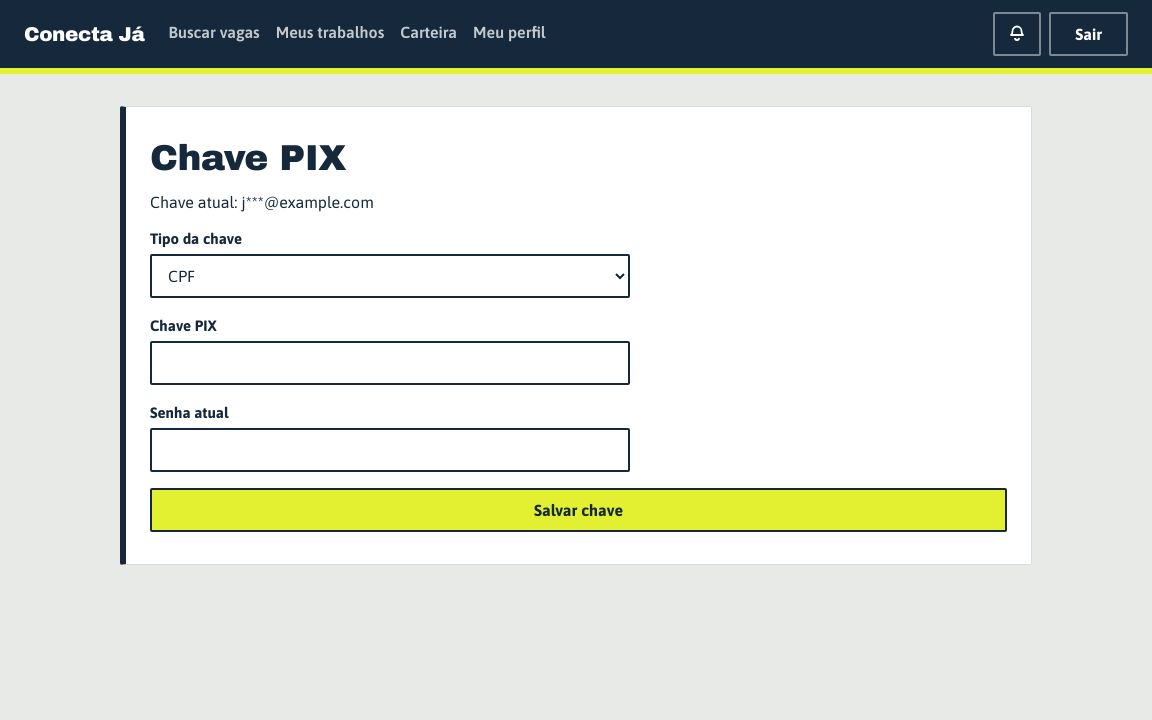
Test case: Chave PIX › pede a senha atual para trocar uma chave existente
Select "Telefone" in the dropdown labelled "Tipo da chave" at (390, 276), box [150,254,630,298]
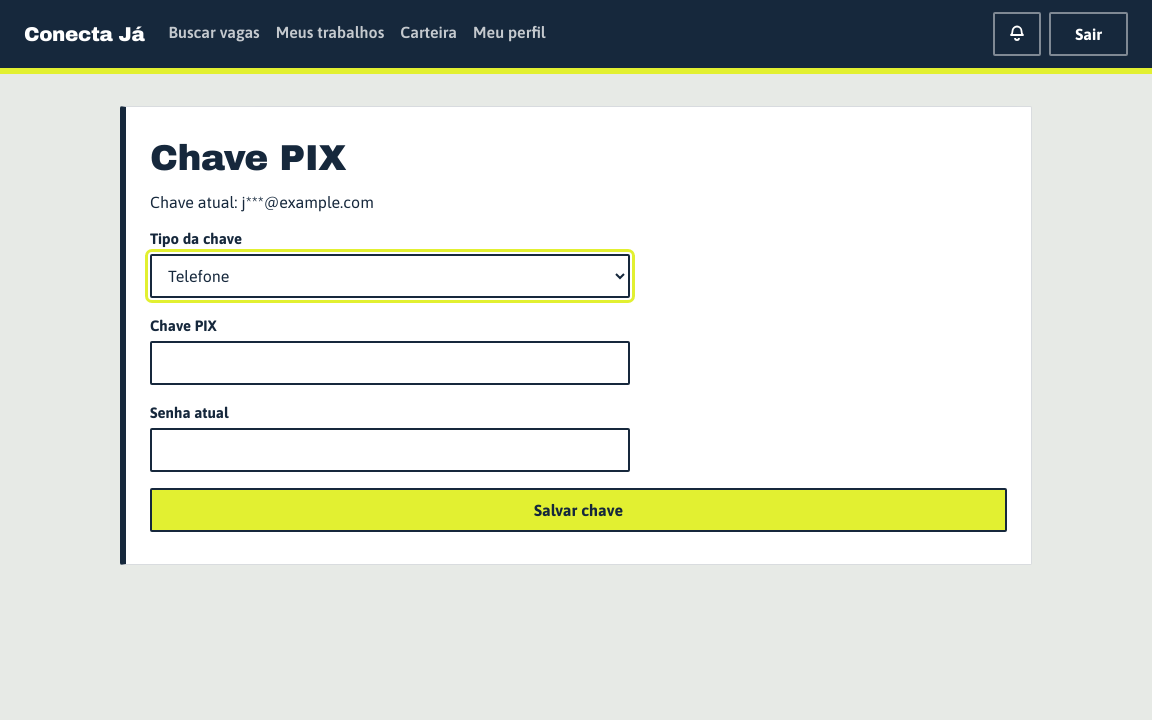
Type "11999998888" into the field labelled "Chave PIX" at (390, 363), box [150,341,630,385]
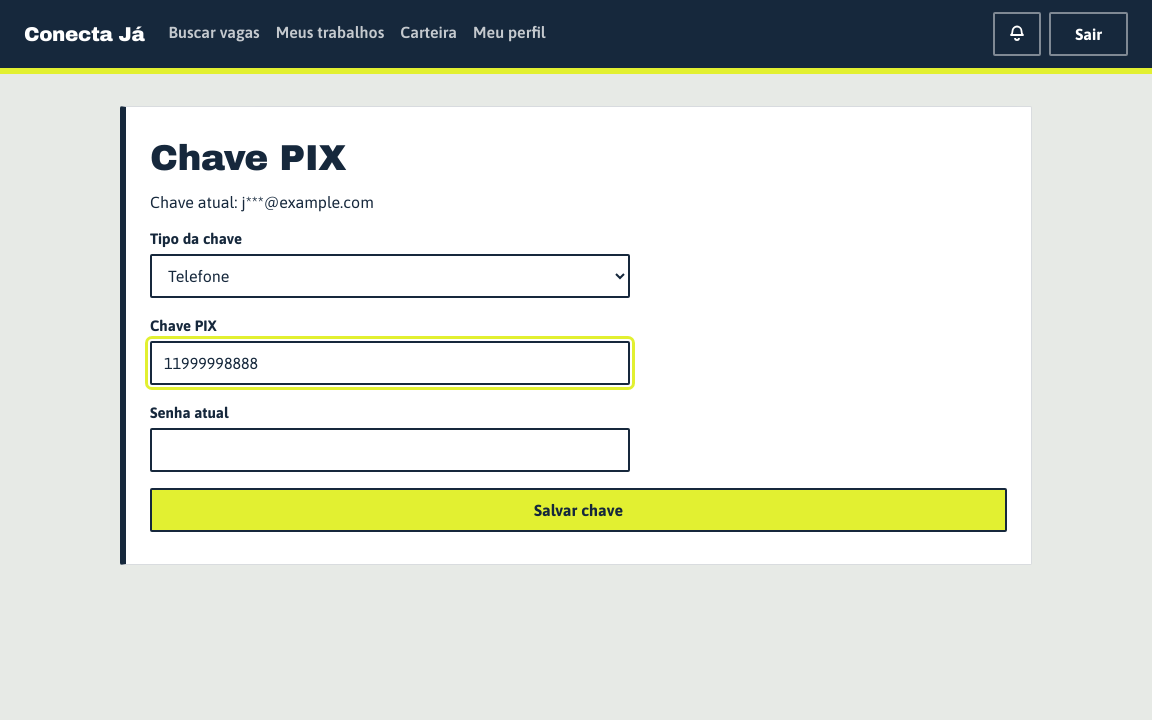
Type "senha-forte-123" into the password field labelled "Senha atual" at (390, 450), box [150,428,630,472]
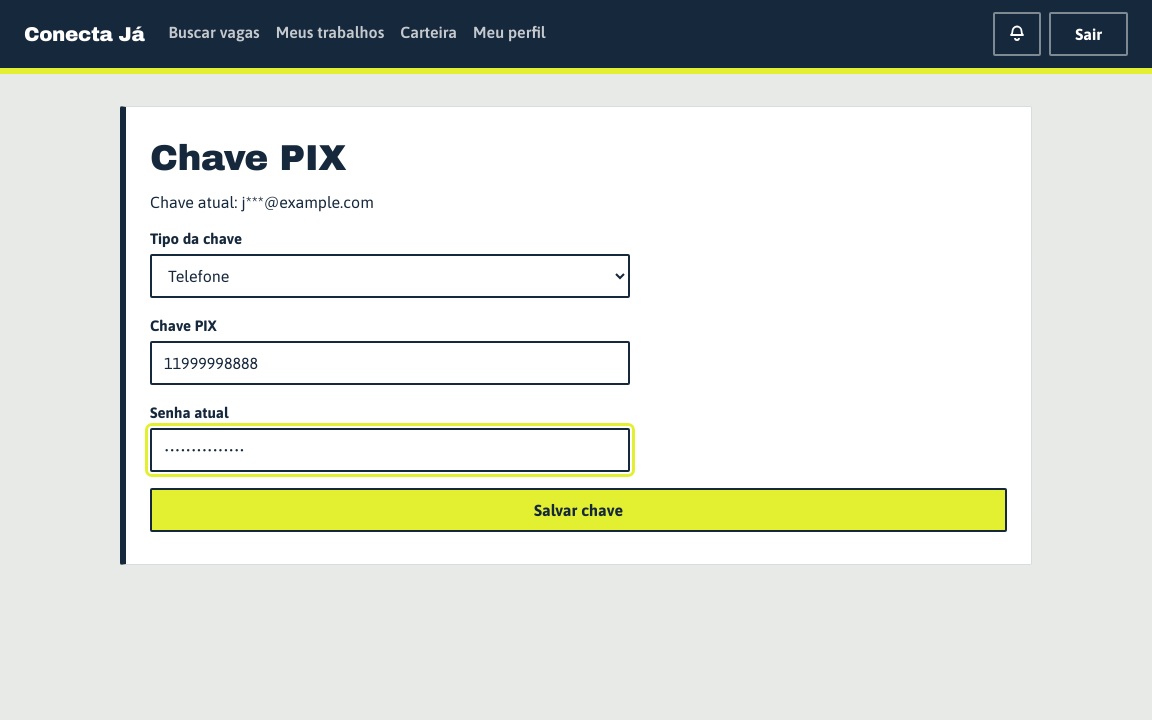
Click the button "Salvar chave" at (578, 510), box [150,488,1007,532]
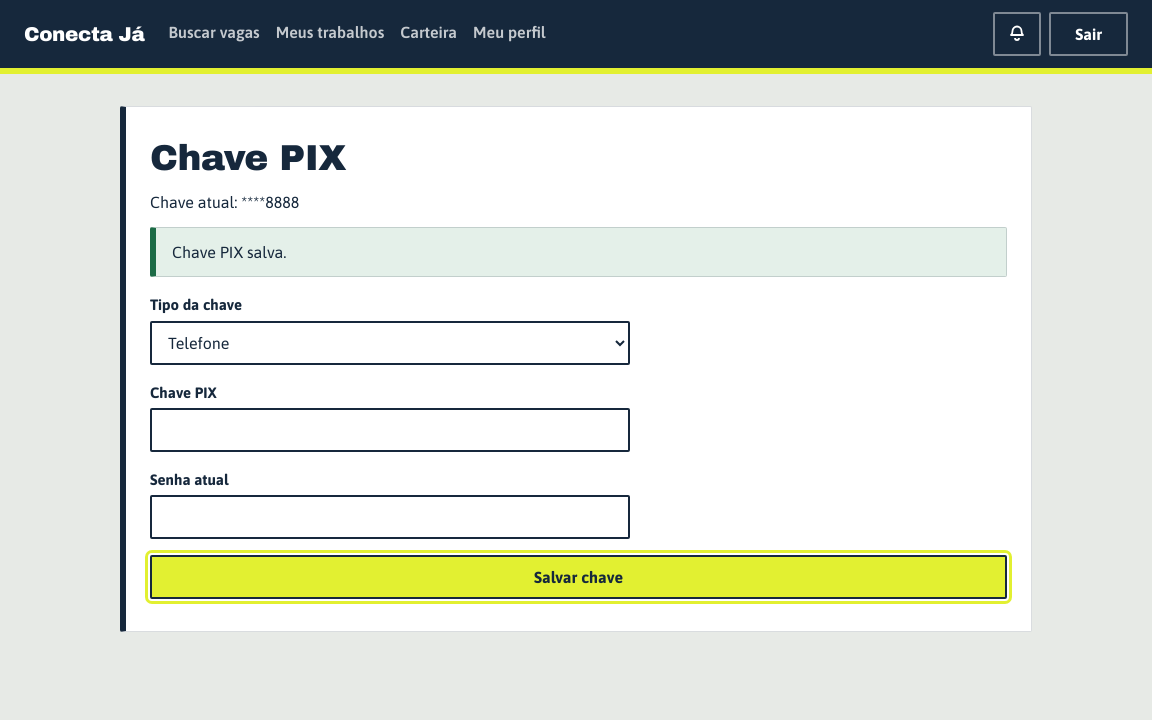
Check: the text "Chave atual: ****8888" is shown, box [150,193,299,211]
